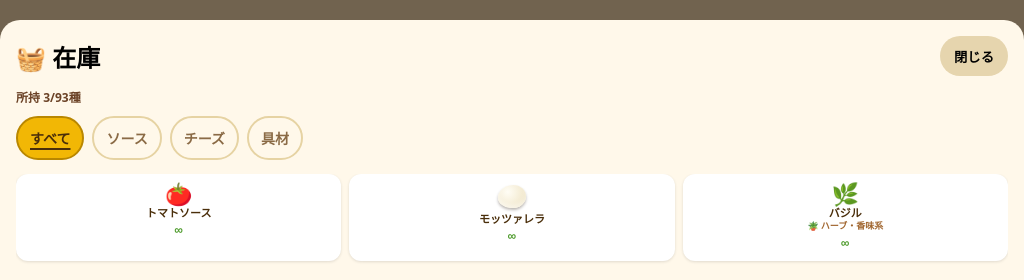
Test: InventoryOverlay (read-only stock view) › test 6: starters only -> major tabs are すべて / ソース / チーズ / 具材 (buttons, no tabs), and filter by the active one
Click the button "ソース" at (127, 138), box [92,116,162,160]
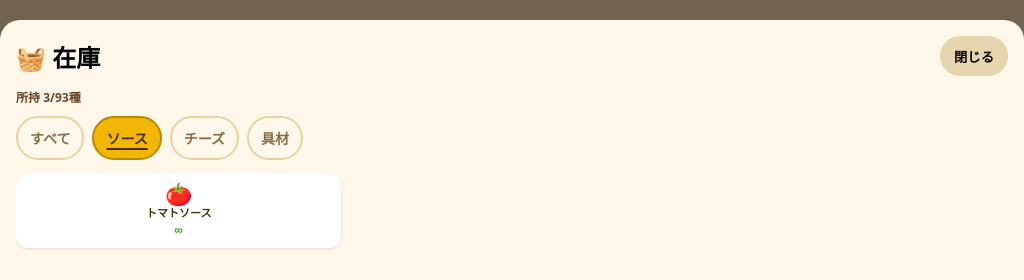
Expected: the text "トマトソース" is shown, [146,206,211,219]
Result: the text "モッツァレラ" is gone
Result: the text "バジル" is gone
